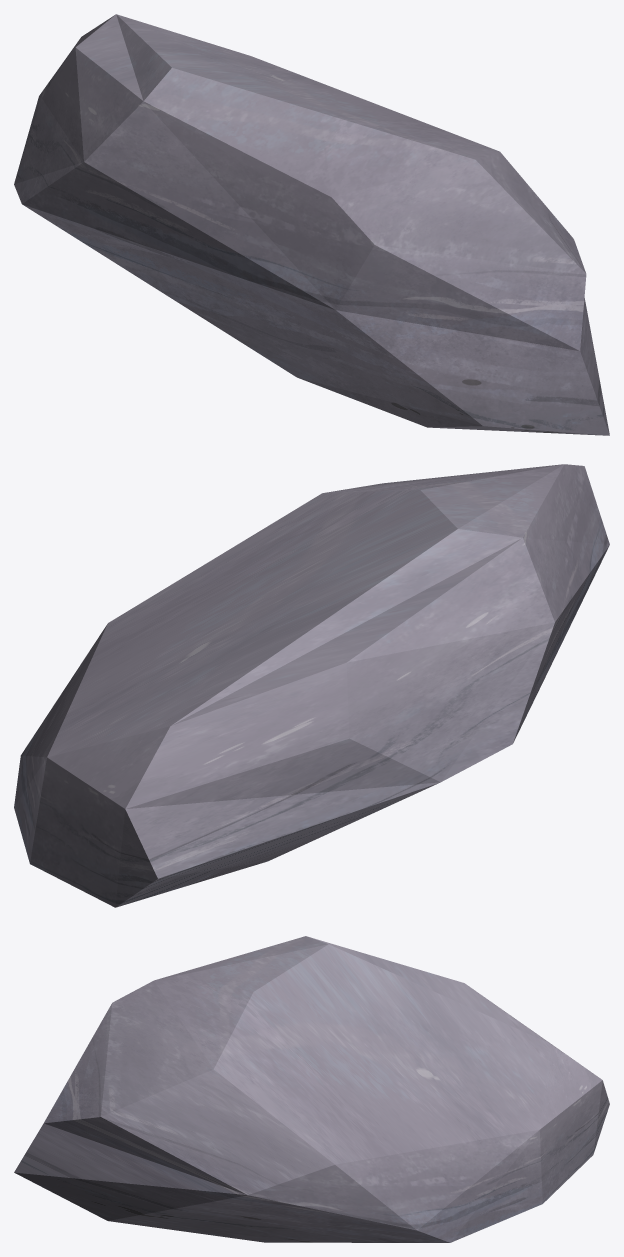
File: rock_2_020.fbx
3 views of the same model, one above another, from view 1: azimuth 30°, elevation 25°; view 2: azimuth 150°, elevation 25°; view 3: azimuth 270°, elevation 25° (orthographic). The views are drawn at different scales.
Parts seen in each view (by area): view 1: rock 2.020; view 2: rock 2.020; view 3: rock 2.020.
Boxes of the visible parts, x1,y1,x2,y2 form: rock 2.020: [14, 14, 609, 435]; rock 2.020: [14, 464, 609, 907]; rock 2.020: [14, 936, 609, 1242].
Size of the model in its own units: 85.59 by 56.53 by 145.
